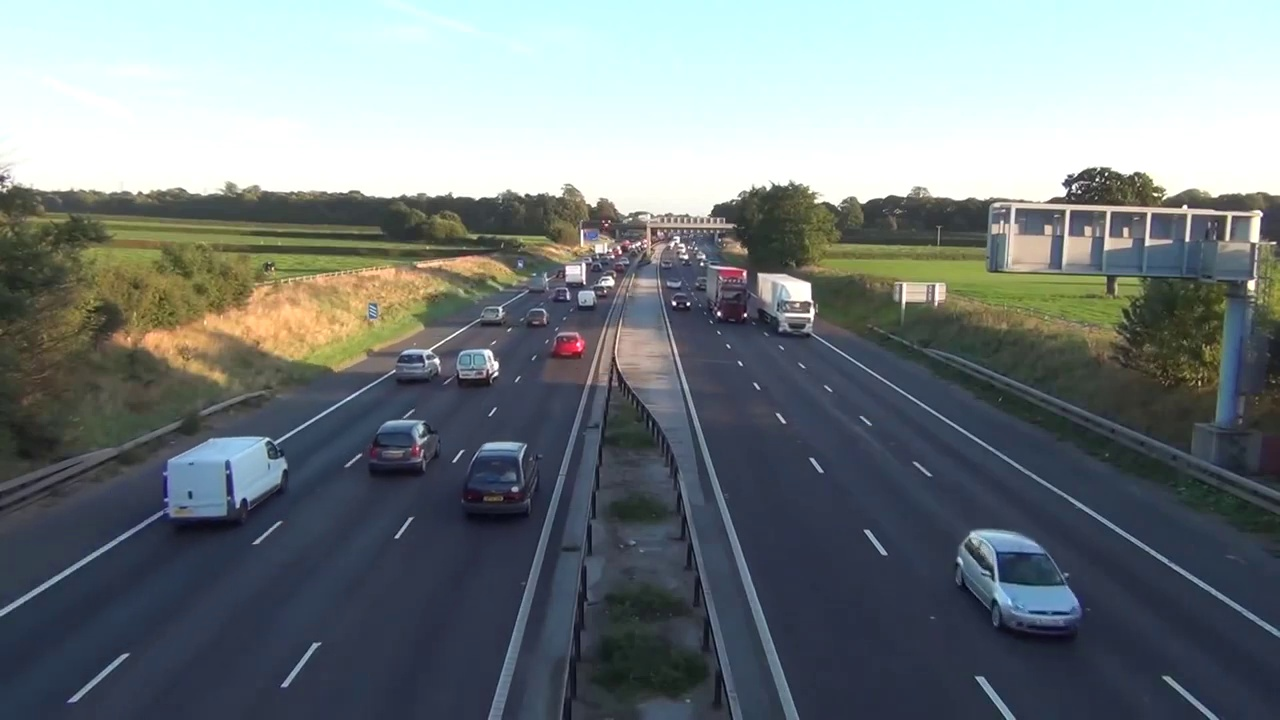bus: (955, 529, 1083, 640), (460, 442, 543, 518), (368, 420, 441, 476), (395, 349, 442, 382), (552, 331, 585, 358), (479, 306, 506, 325), (526, 308, 550, 328), (670, 293, 691, 310), (552, 288, 571, 303), (695, 276, 707, 290), (667, 278, 682, 289), (592, 286, 607, 297)
car: (756, 272, 818, 336), (706, 266, 750, 322), (564, 262, 586, 287)
lorry: (162, 436, 289, 527), (456, 349, 499, 385), (577, 290, 595, 311)
